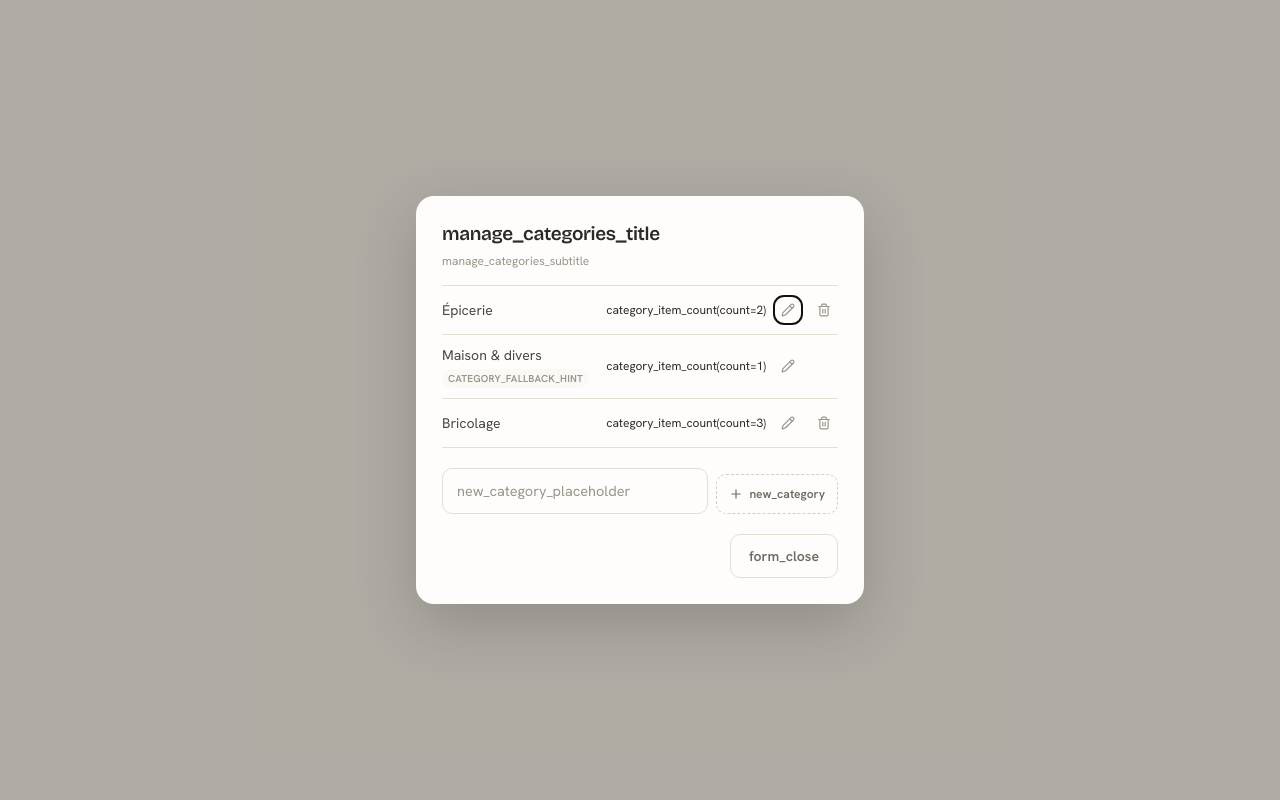
ManageCategoriesModal › abandons the deletion when the confirmation is cancelled
This screenshot has width=1280, height=800.
Click the button named "category_delete(name=Bricolage)" at coordinates (824, 423), box [810,409,838,437]
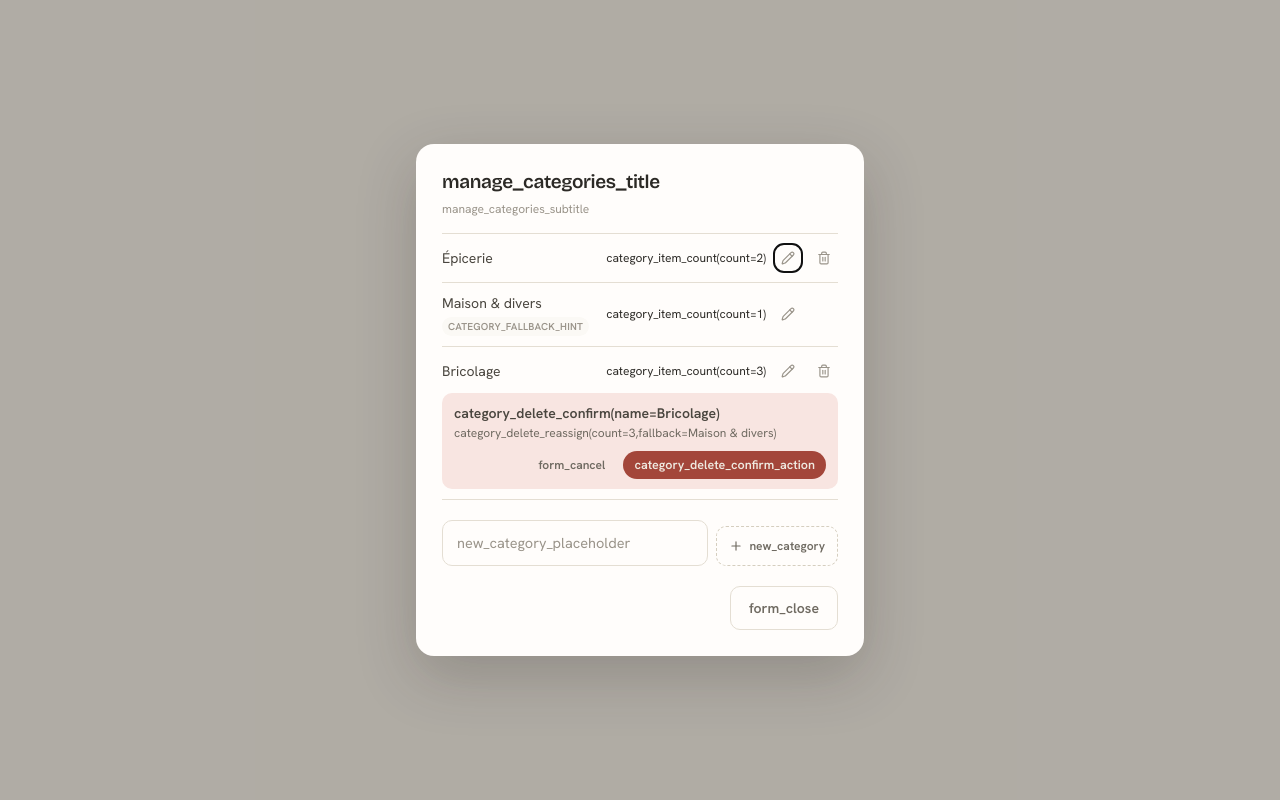
Click the button "form_cancel" at coordinates (572, 465), box [528,450,615,479]
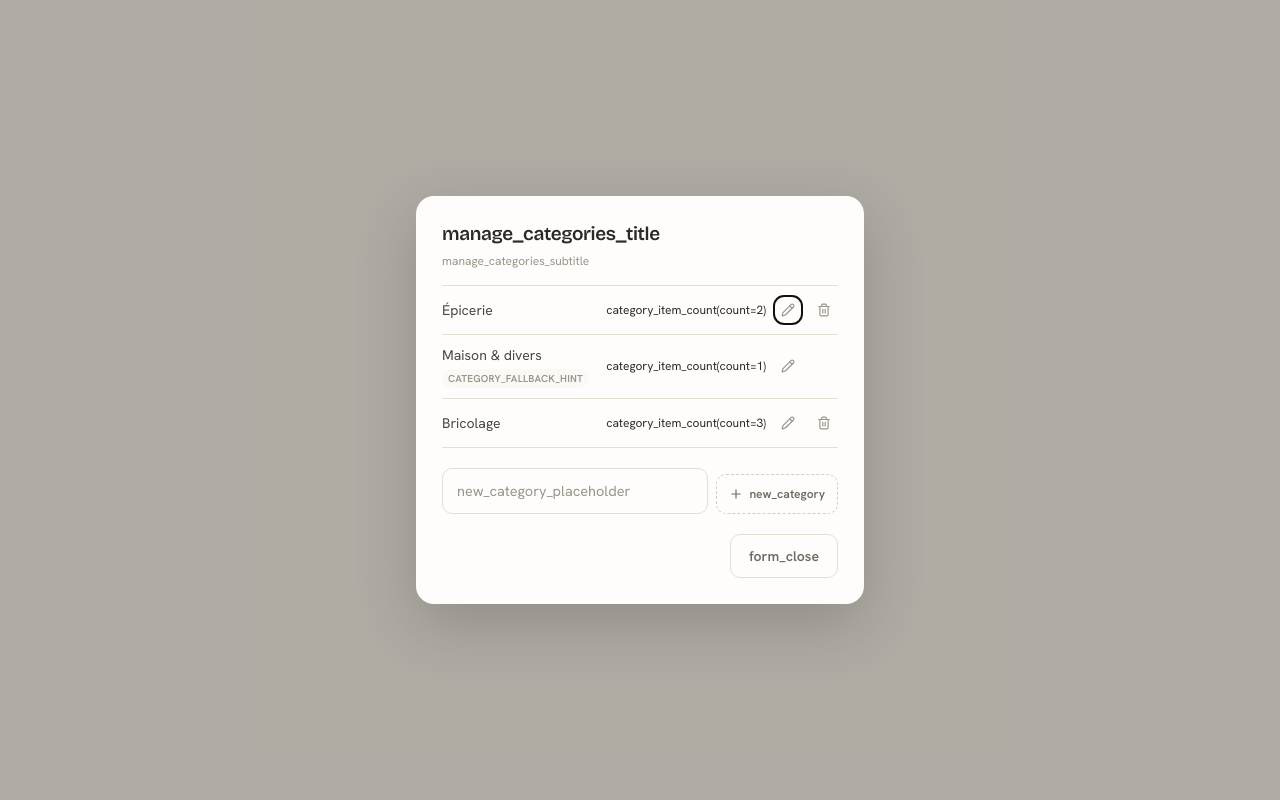
Now the text "category_delete_confirm(name=Bricolage)" is gone
